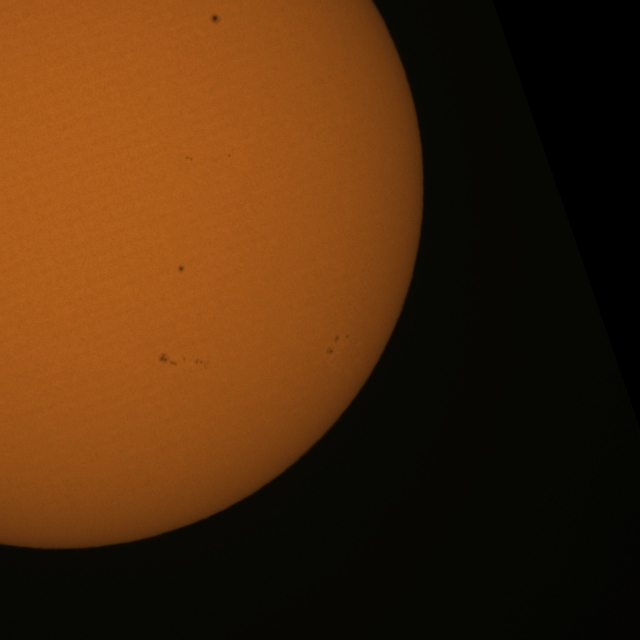sunspot: (324, 331, 350, 356), (192, 355, 211, 370), (158, 352, 178, 366), (210, 13, 221, 25), (177, 264, 185, 274), (184, 155, 194, 162), (227, 153, 231, 158)
